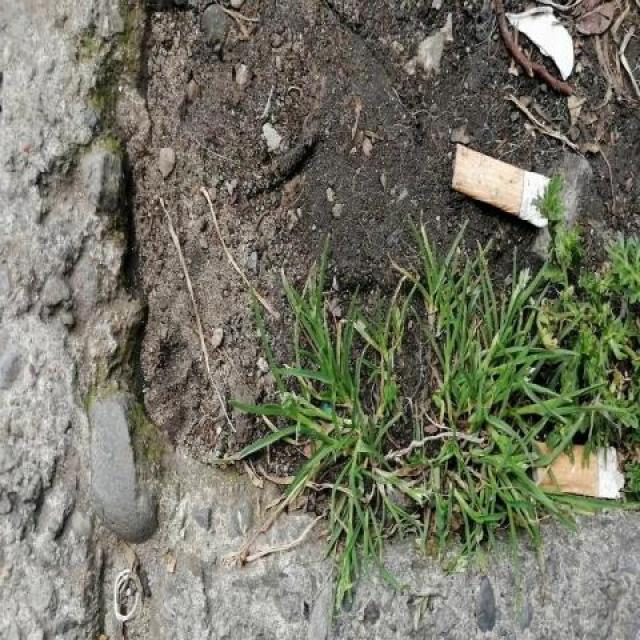non-organic waste: (448, 140, 559, 232), (527, 436, 628, 504)
